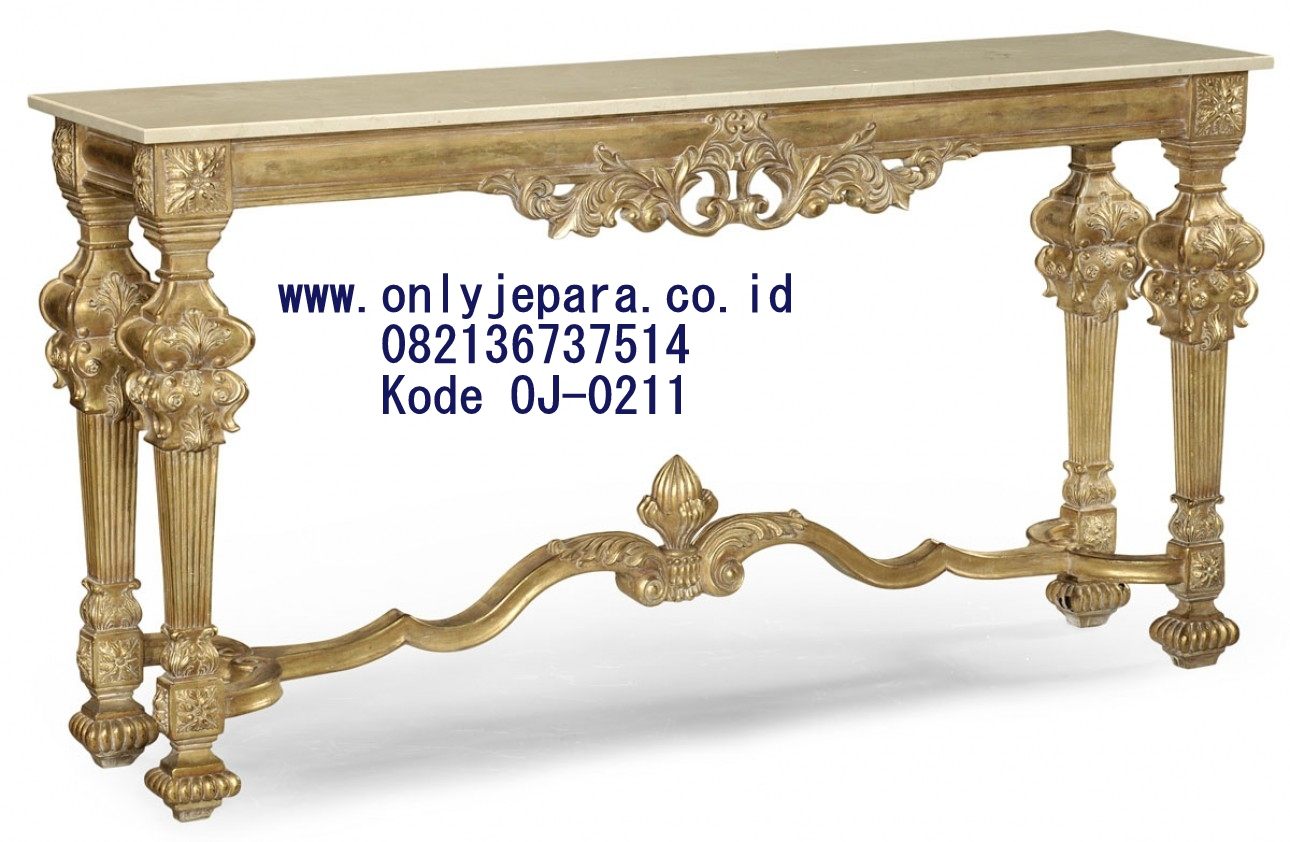Carving Table: (37, 66, 1243, 720)
